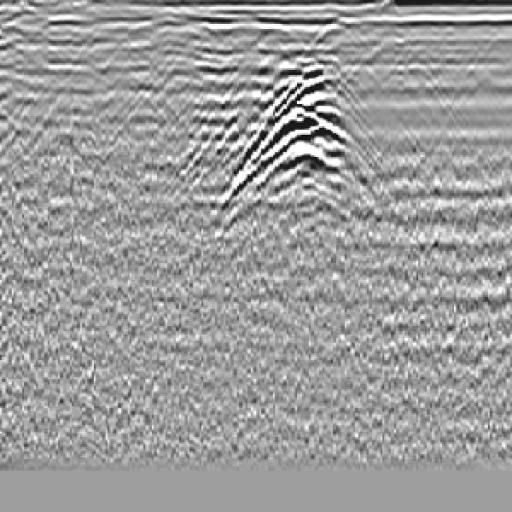metalic: (189, 53, 406, 253)
